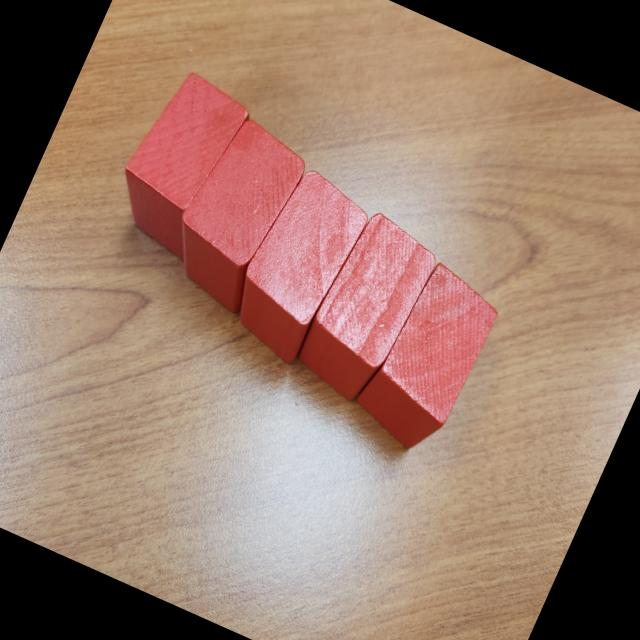red: (216, 162, 378, 372), (346, 254, 508, 462), (154, 110, 316, 318), (288, 207, 446, 410), (100, 62, 259, 263)
